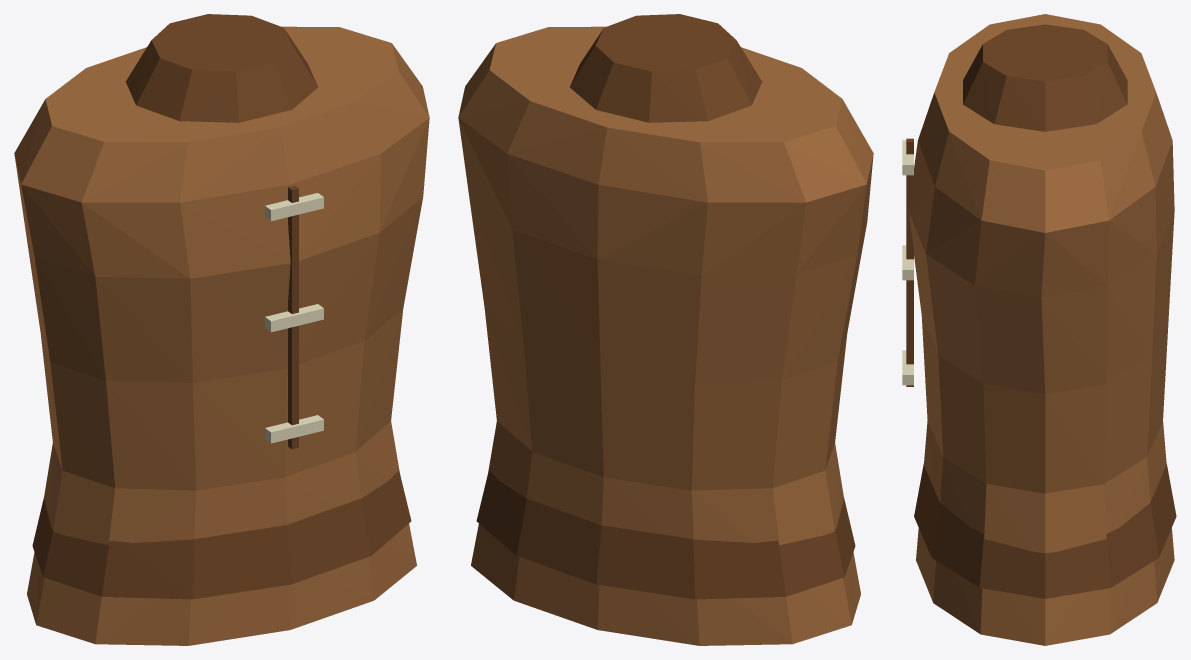
File: gear_leather_body_torso_m.glb
3 views of the same model, side by side, from view 1: azimuth 30°, elevation 25°; view 2: azimuth 150°, elevation 25°; view 3: azimuth 270°, elevation 25° (orthographic). The views are drawn at different scales.
Parts seen in each view (by area): view 1: gear_leather_body_torso_m; view 2: gear_leather_body_torso_m; view 3: gear_leather_body_torso_m.
Part boxes in pixels (box(x1,y1,x2,y2)): gear_leather_body_torso_m: box(14, 14, 429, 645); gear_leather_body_torso_m: box(458, 14, 873, 645); gear_leather_body_torso_m: box(902, 14, 1176, 645).
Size of the model in its own units: 0.454 by 0.58 by 0.284.
